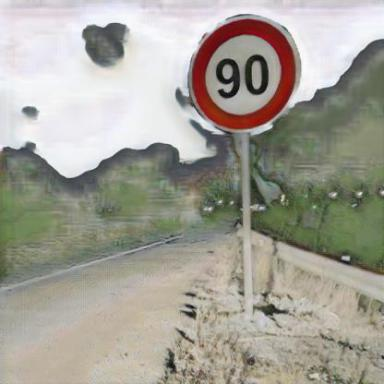Speed_limit_90: (190, 22, 295, 131)
